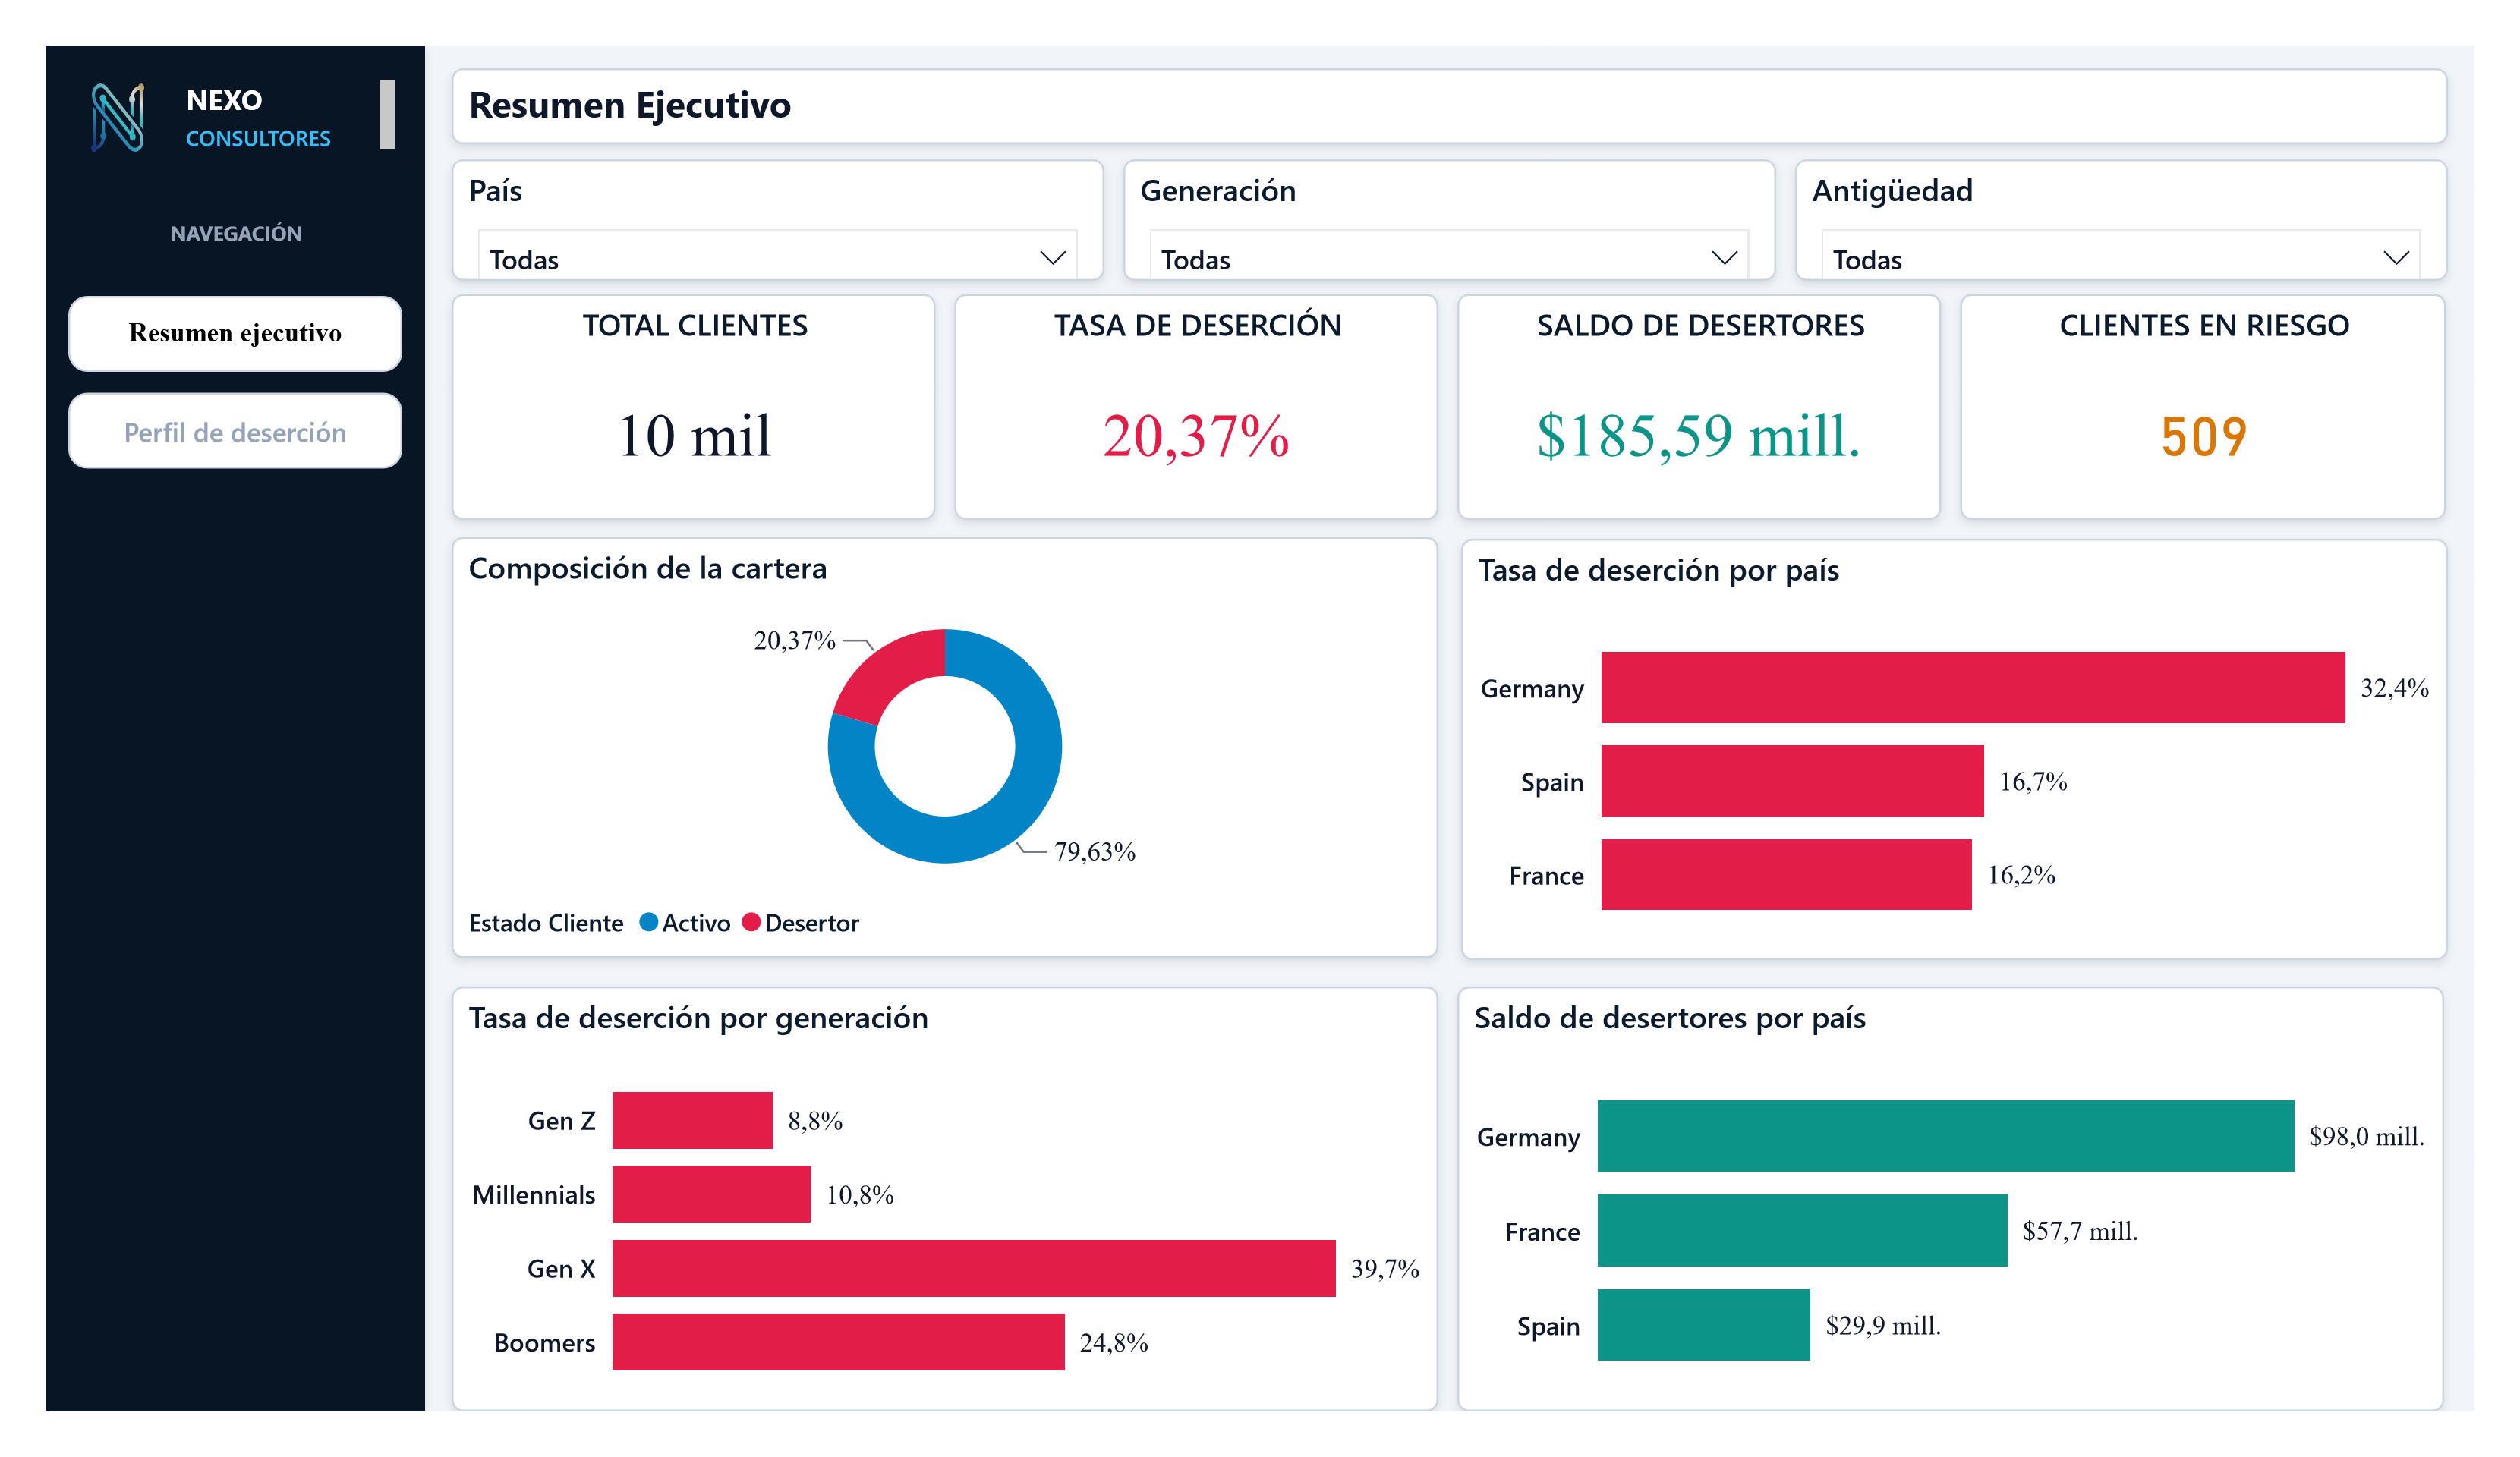

Layout of this report page (visuals, bound fields, positions):
{"tool":"powerbi","page":{"name":"Resumen Ejecutivo","canvas":[1280,720],"ordinal":0},"visuals":[{"type":"textbox","box":[0,0,200,720],"z":0},{"type":"textbox","box":[214,12,1052,40],"z":1000},{"type":"textbox","box":[66,14,126,46],"z":2000},{"type":"textbox","box":[15.7,84.5,168.9,31.4],"z":3000},{"type":"slicer","title":"País","fields":{"Values":["Clientes.Geography"]},"box":[214,60,344,64],"z":5000},{"type":"slicer","title":"Generación","fields":{"Values":["Clientes.Generation"]},"box":[568,60,344,64],"z":6000},{"type":"slicer","title":"Antigüedad","fields":{"Values":["Clientes.Tenure_Group"]},"box":[922,60,344,64],"z":7000},{"type":"card","title":"TOTAL CLIENTES","fields":{"Values":["Clientes.Total Clientes"]},"box":[213.8,131.2,255,118.8],"z":8000},{"type":"card","title":"TASA DE DESERCIÓN","fields":{"Values":["Clientes.Tasa de Desercion"]},"box":[478.8,131.2,255,118.8],"z":9000},{"type":"card","title":"SALDO DE DESERTORES","fields":{"Values":["Clientes.Saldo Clientes Desertores"]},"box":[743.8,131.2,255,118.8],"z":10000},{"type":"card","title":"CLIENTES EN RIESGO","fields":{"Values":["Clientes.Clientes en Riesgo"]},"box":[1008.8,131.2,256.2,118.8],"z":11000},{"type":"donutChart","title":"Composición de la cartera","fields":{"Category":["Clientes.Estado Cliente"],"Y":["Clientes.Total Clientes"]},"box":[213.8,258.8,520,222],"z":12000},{"type":"clusteredBarChart","title":"Tasa de deserción por país","fields":{"Category":["Clientes.Geography"],"Y":["Clientes.Tasa de Desercion"]},"box":[746.2,260,520,222],"z":13000},{"type":"clusteredBarChart","title":"Tasa de deserción por generación","fields":{"Category":["Clientes.Generation"],"Y":["Clientes.Tasa de Desercion"]},"box":[213.5,495.8,520,224],"z":14000},{"type":"clusteredBarChart","title":"Saldo de desertores por país","fields":{"Category":["Clientes.Geography"],"Y":["Clientes.Saldo Clientes Desertores"]},"box":[744.4,495.8,520,224],"z":15000},{"type":"image","box":[16,16,44,44],"z":16000},{"type":"actionButton","title":"Resumen Ejecutivo","box":[12.1,131.5,176,40],"z":17000},{"type":"actionButton","title":"Perfil de Deserción","box":[12.1,183.4,176,40],"z":18000}]}

Visuals, with their boxes on the page's 1280x720 design canvas (x1, y1, x2, y2). These are canvas units, not pixel positions in the 2520x1457 screenshot, which may show the page scaled, cropped or inside an application window:
textbox: <box>0,0,200,720</box>
textbox: <box>214,12,1266,52</box>
textbox: <box>66,14,192,60</box>
textbox: <box>16,84,185,116</box>
"País" slicer: <box>214,60,558,124</box>
"Generación" slicer: <box>568,60,912,124</box>
"Antigüedad" slicer: <box>922,60,1266,124</box>
"TOTAL CLIENTES" card: <box>214,131,469,250</box>
"TASA DE DESERCIÓN" card: <box>479,131,734,250</box>
"SALDO DE DESERTORES" card: <box>744,131,999,250</box>
"CLIENTES EN RIESGO" card: <box>1009,131,1265,250</box>
"Composición de la cartera" donutChart: <box>214,259,734,481</box>
"Tasa de deserción por país" clusteredBarChart: <box>746,260,1266,482</box>
"Tasa de deserción por generación" clusteredBarChart: <box>214,496,734,720</box>
"Saldo de desertores por país" clusteredBarChart: <box>744,496,1264,720</box>
image: <box>16,16,60,60</box>
"Resumen Ejecutivo" actionButton: <box>12,132,188,172</box>
"Perfil de Deserción" actionButton: <box>12,183,188,223</box>
